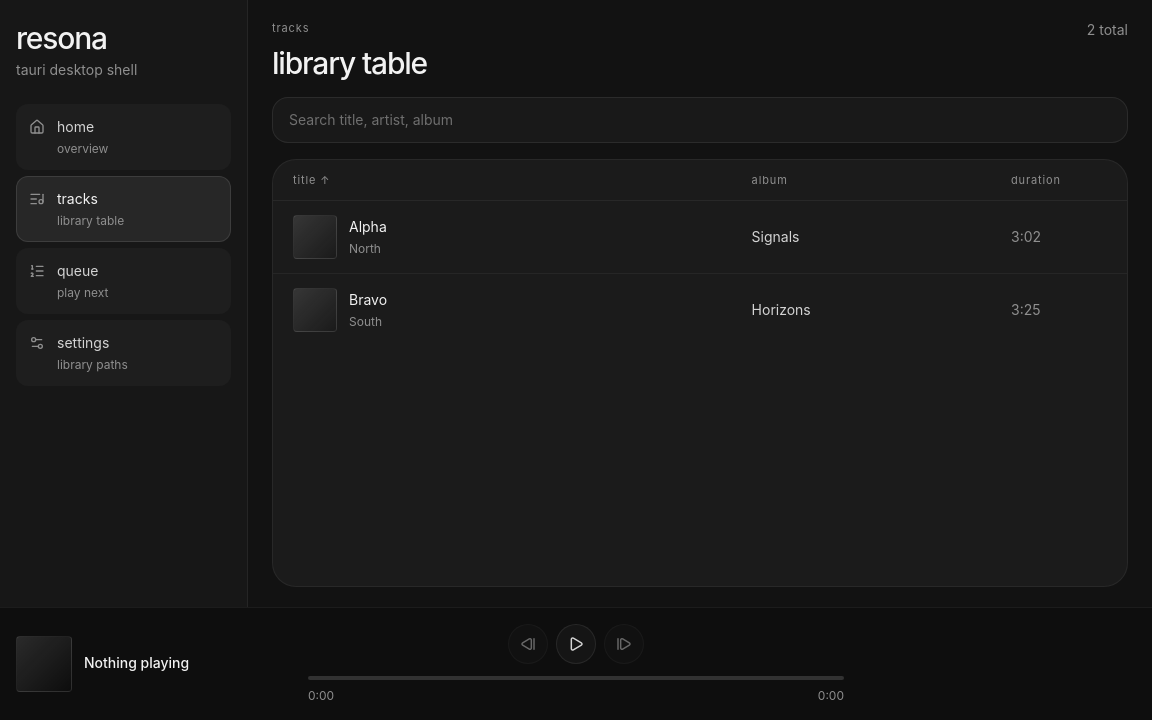
Test: app shell smoke checks › autoplays the next queued track when the active track finishes
This screenshot has width=1152, height=720.
Click the button with aria-label "Select Alpha" at point(315, 237), box [273,201,1127,274]
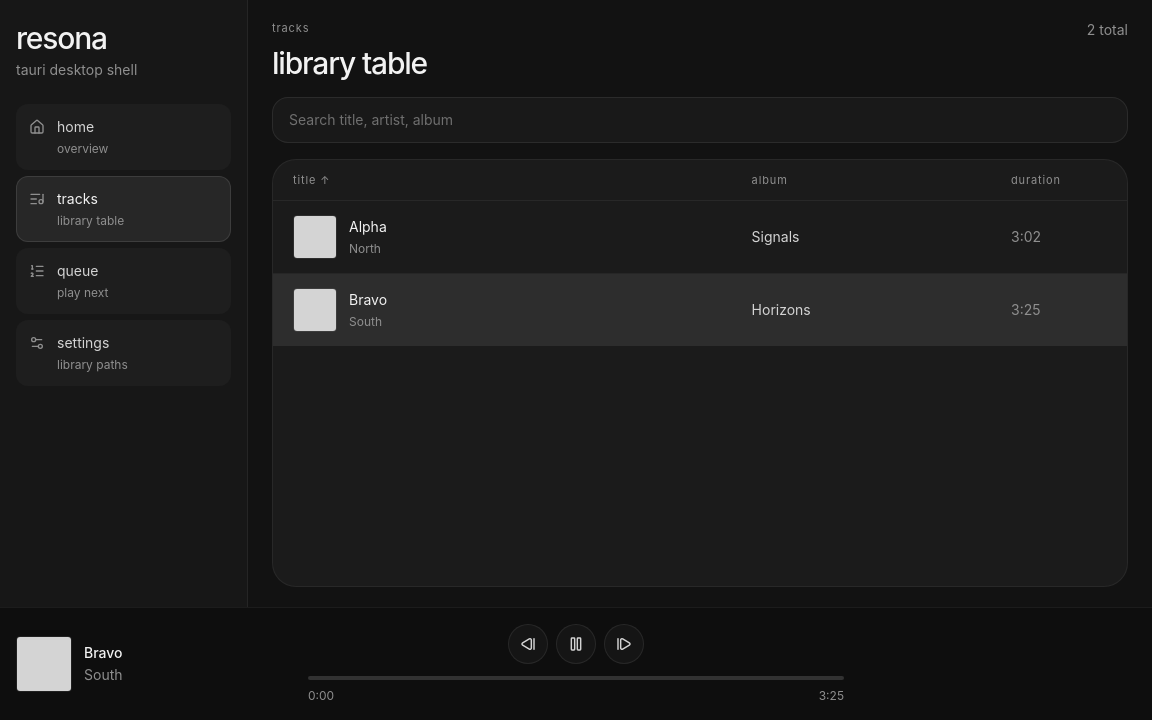
Expected: the 1st text "Bravo" is shown, [349,290,387,310]
Expected: the button named "Pause playback" is shown, [556,624,596,664]
